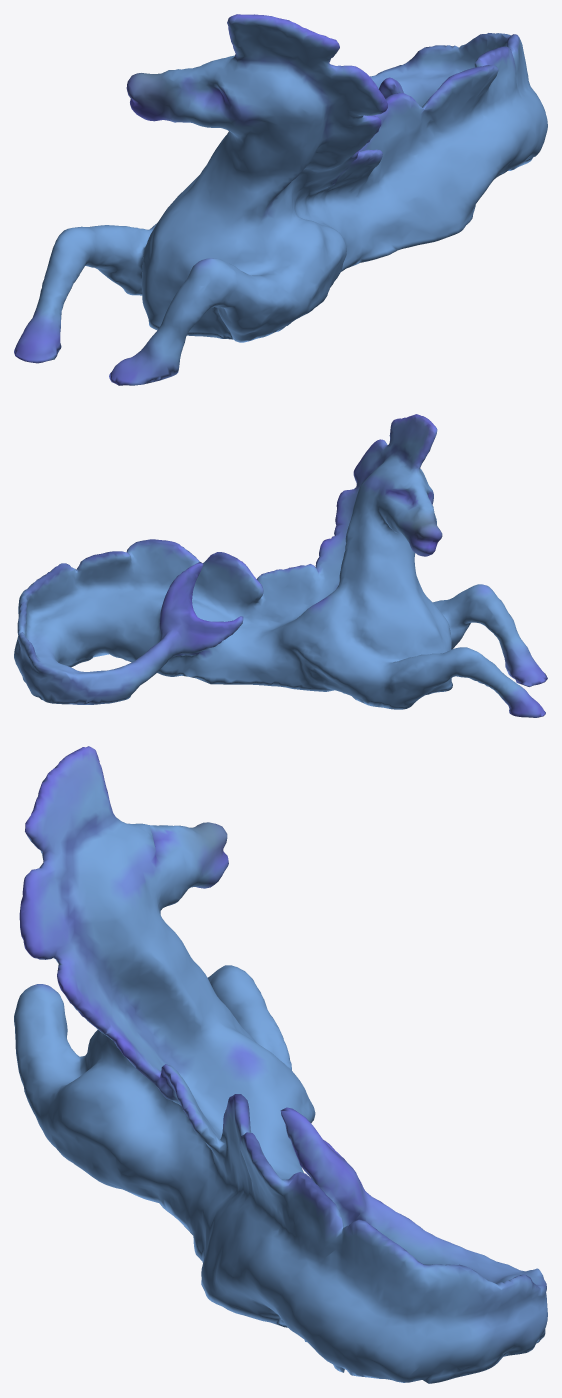
Rendered from cheval.glb.
The picture shows the model from 3 angles, top to bottom: view 1: azimuth 30°, elevation 25°; view 2: azimuth 150°, elevation 25°; view 3: azimuth 270°, elevation 25°; orthographic projection. The views are drawn at different scales.
Parts seen in each view (by area): view 1: Modelf; view 2: Modelf; view 3: Modelf.
Part boxes in pixels (x1,y1,x2,y2): Modelf: (14,14,547,385); Modelf: (14,414,547,717); Modelf: (14,746,547,1383).
Size of the model in its own units: 7.99 by 4.04 by 4.93.
